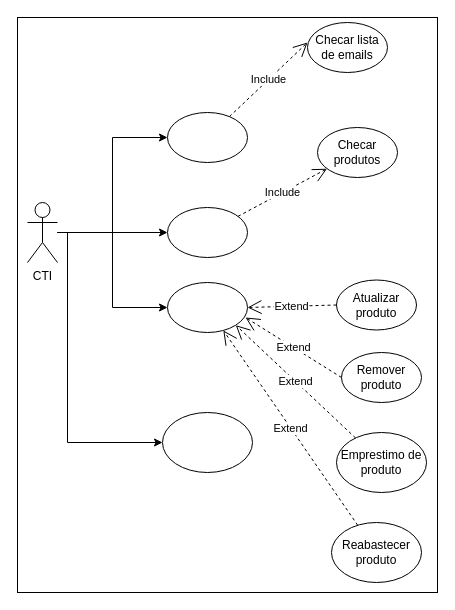
Image size: 455x610. Some labels were removed from this diagram. Each missing label, with the centre of its shape:
Cadastrar Email: (207,137)
Cadastrar produto: (207,232)
Emissão de relatorios: (207,442)
Pesquisar produto: (207,307)
